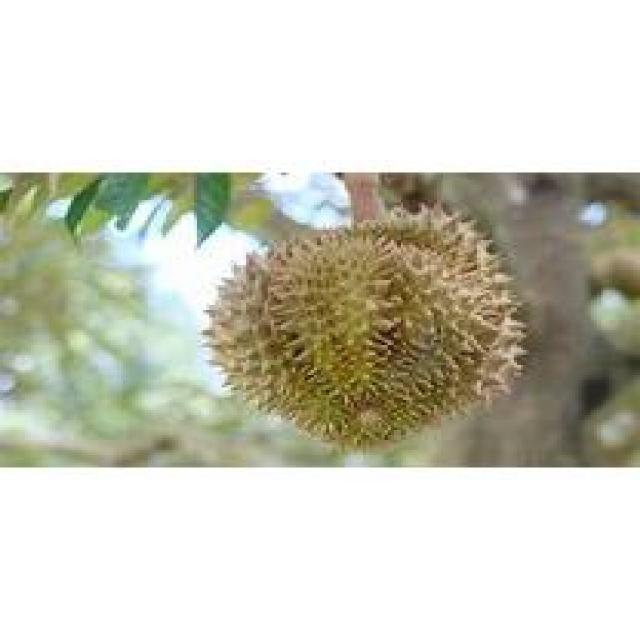fruit: (200, 200, 529, 460)
